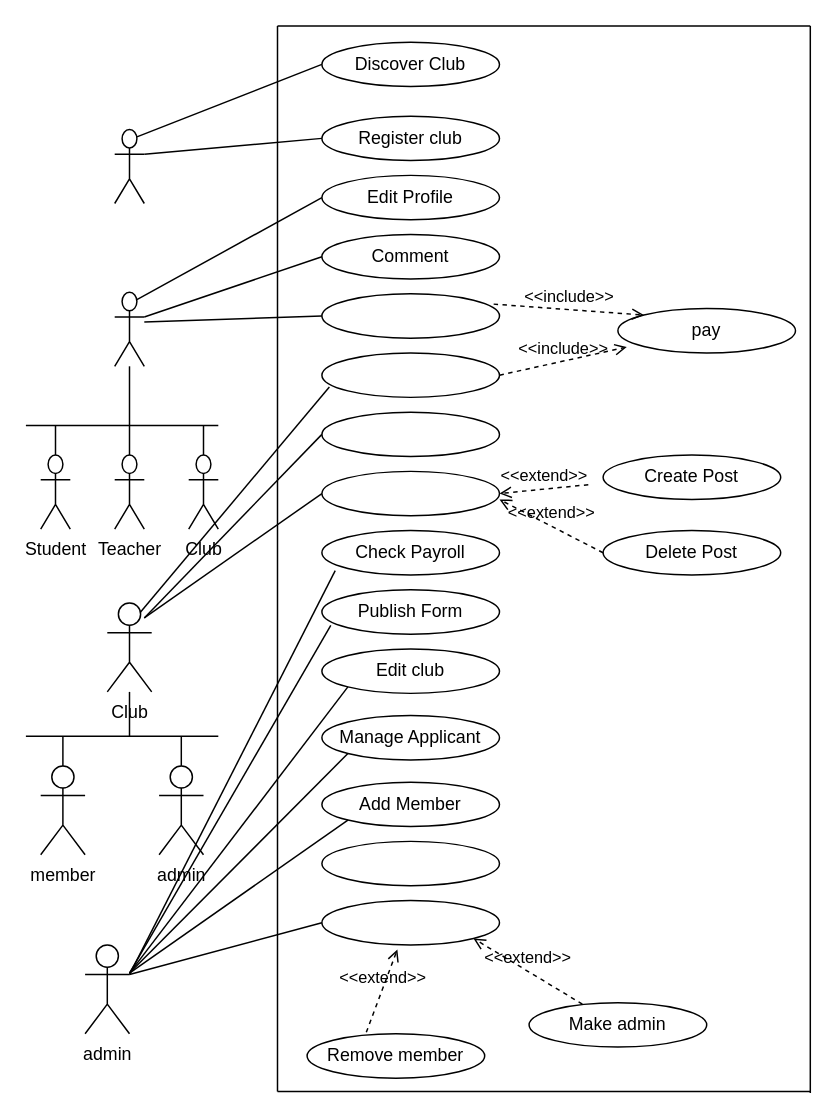
This 838x1120 diagram has some shape labels left out. The centre of each missing label's shape, as x and y in pixels:
Apply form: point (410, 315)
Club fee: point (410, 374)
Leave club: point (410, 434)
Manage Member: point (410, 922)
Manage post: point (410, 493)
Registered User: point (128, 328)
Send invitation: point (410, 863)
Unregistered user: point (128, 166)
